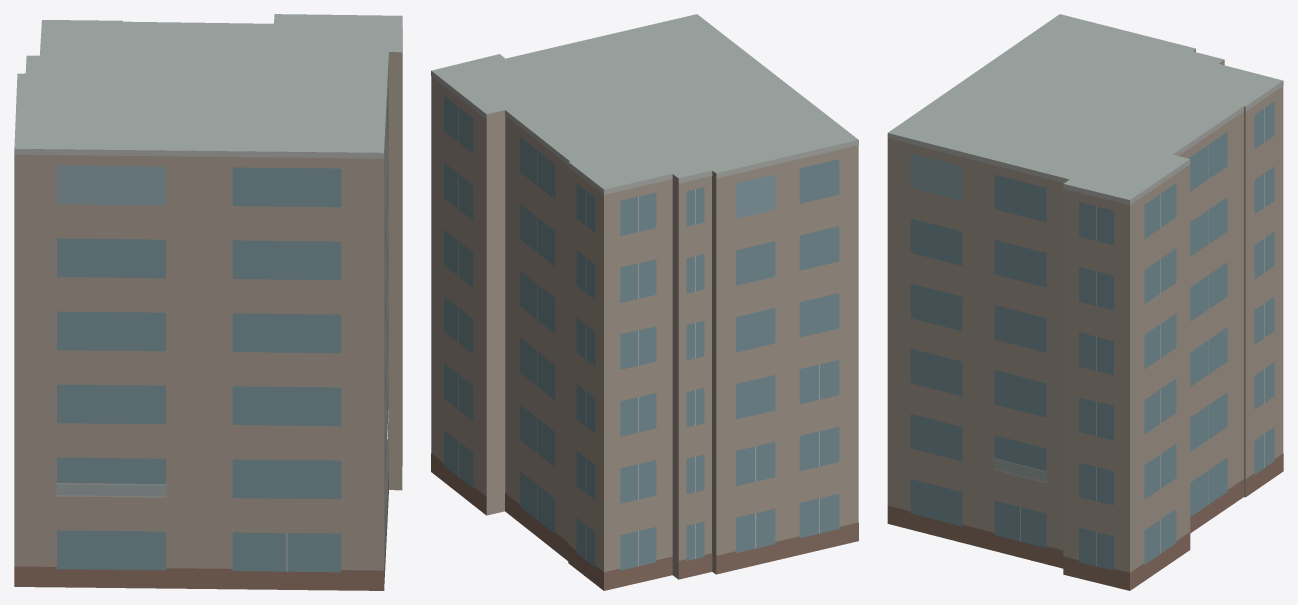
File: survey-upis-32709980.glb
The picture shows the model from 3 angles, left to right: view 1: azimuth 30°, elevation 25°; view 2: azimuth 150°, elevation 25°; view 3: azimuth 270°, elevation 25°; orthographic projection. The views are drawn at different scales.
Visible parts, largest first — view 1: survey-upis-32709980.tmp; view 2: survey-upis-32709980.tmp; view 3: survey-upis-32709980.tmp.
Part boxes in pixels (x1,y1,x2,y2): survey-upis-32709980.tmp: (14,14,402,590); survey-upis-32709980.tmp: (431,14,858,590); survey-upis-32709980.tmp: (887,14,1283,590).
Bounding box in the file's own units: 18.7 × 18.3 × 16.81.
